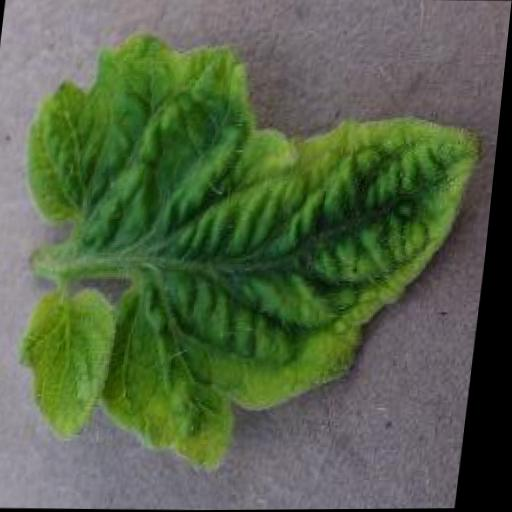Yellow Leaf Curl Virus: (0, 29, 499, 481)
